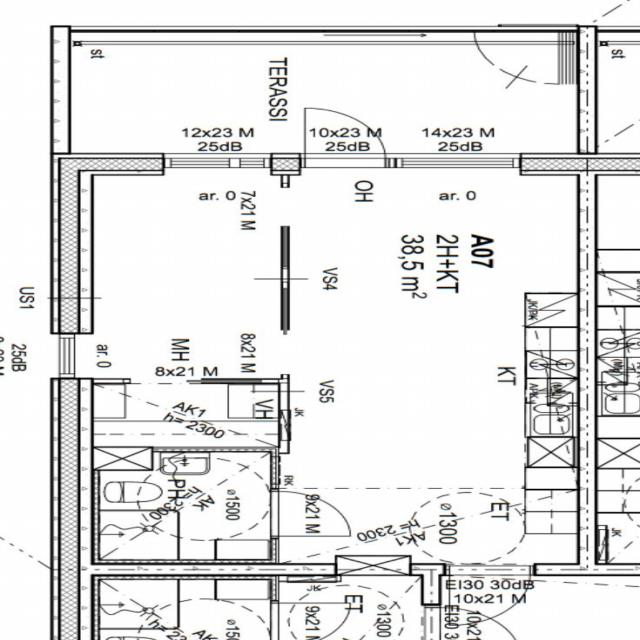door: (305, 103, 384, 168), (450, 566, 530, 626), (270, 491, 350, 536)
